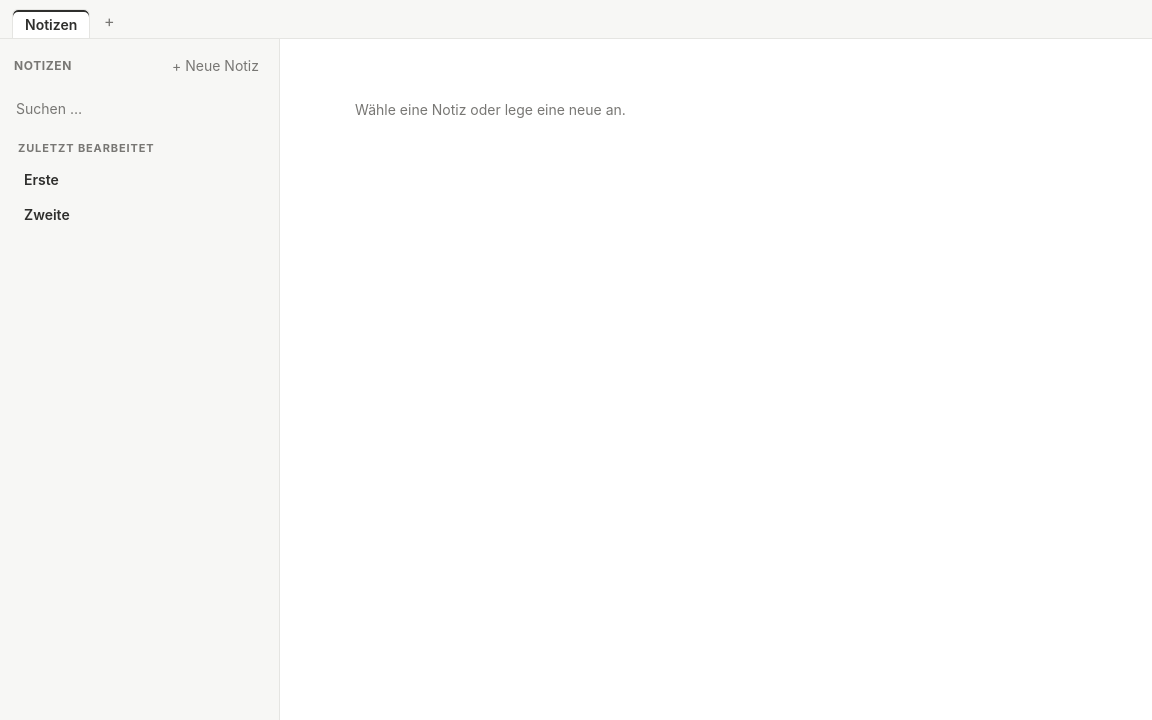
Test case: Tab-Leiste › hat den festen Startpunkt „Notizen“ und öffnet Notizen aus der Liste als Tabs
Click the button "Erste": (140, 180) 14,163 -> 265,196
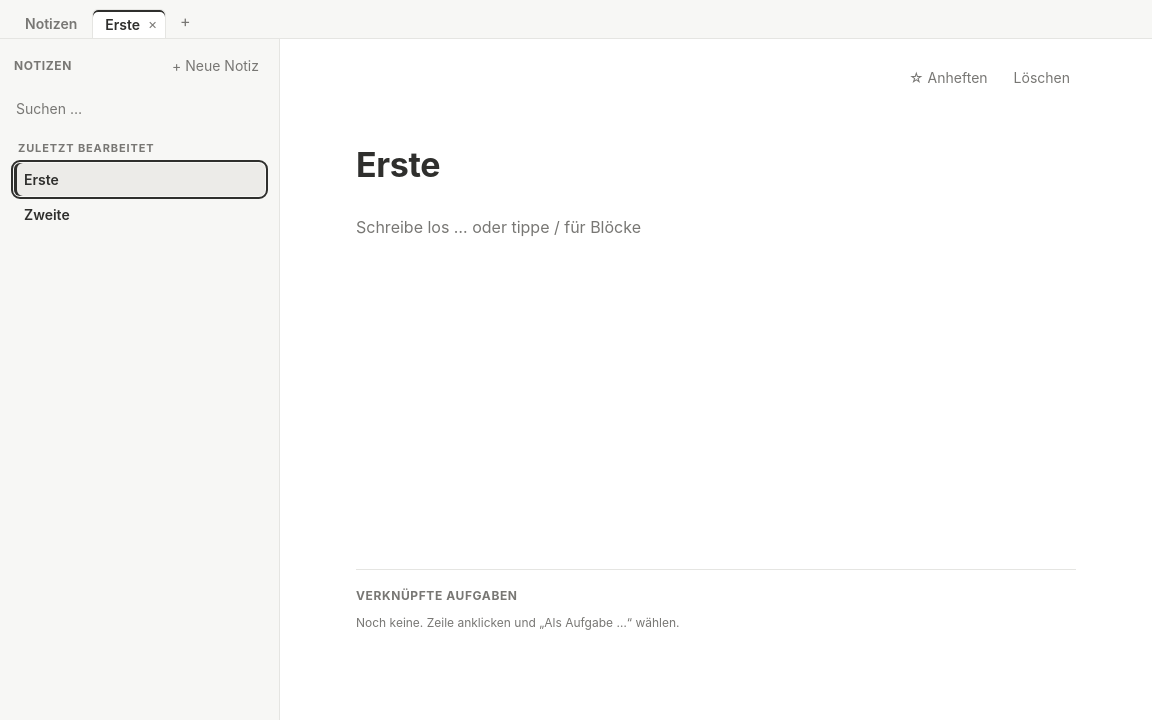
Click the button "Zweite": (140, 214) 14,198 -> 265,231
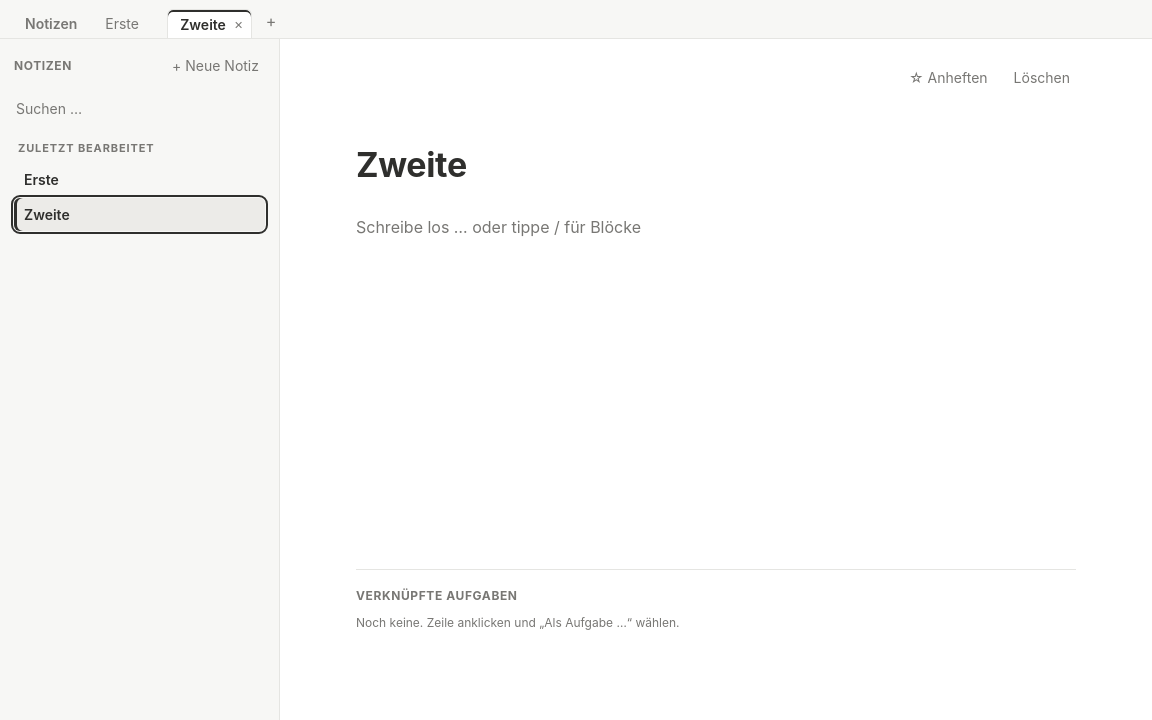
expect the field named "Titel" holds "Zweite": met, box 356,144 -> 1076,186
